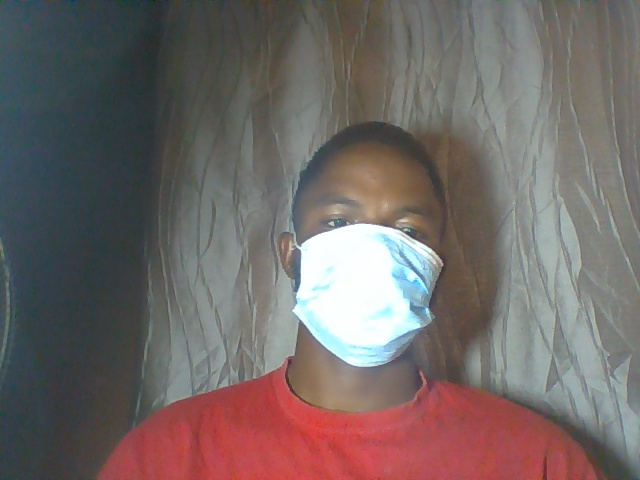MaskOn: (275, 121, 463, 378)
